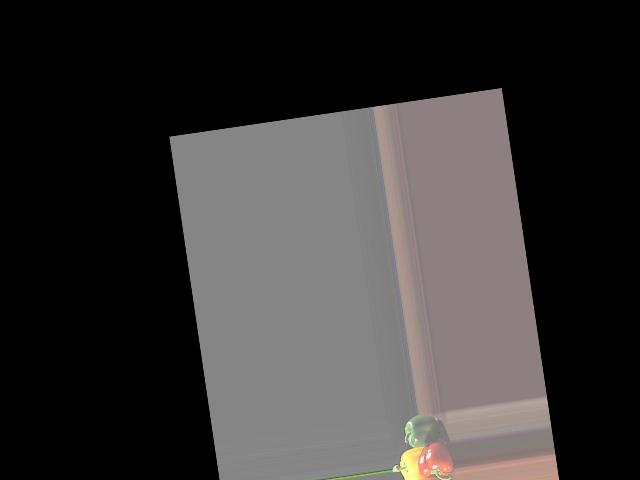bell_pepper: (408, 472, 460, 480)
